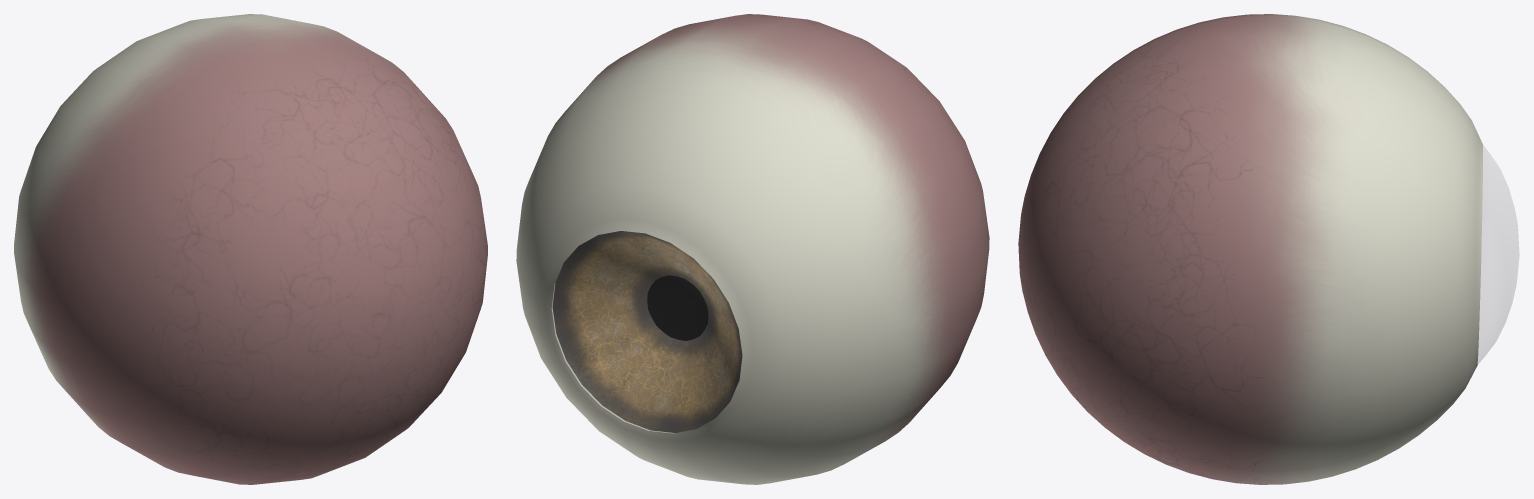
Rendered from OJO GLB.glb.
3 renders of one model, left to right at view 1: azimuth 30°, elevation 25°; view 2: azimuth 150°, elevation 25°; view 3: azimuth 270°, elevation 25°, orthographic.
Parts seen in each view (by area): view 1: OJO P.TEXTURAS.001; view 2: OJO P.TEXTURAS.001; view 3: OJO P.TEXTURAS.001.
Part boxes in pixels (bbox=[...]): OJO P.TEXTURAS.001: bbox=[14, 14, 487, 484]; OJO P.TEXTURAS.001: bbox=[516, 14, 989, 484]; OJO P.TEXTURAS.001: bbox=[1018, 14, 1519, 484].
Bounding box in the file's own units: 1.9 × 1.9 × 2.01.
Materials: 4 (4 with a texture image).
